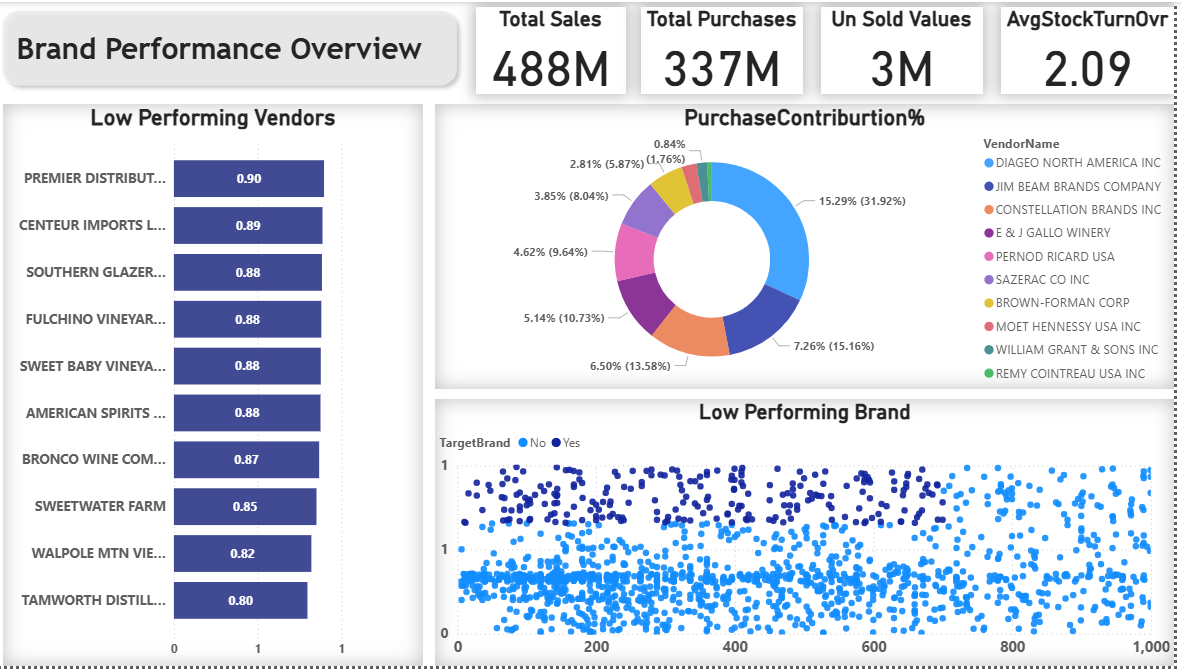

The dashboard page shown, as its layout file describes it:
{"tool":"powerbi","page":{"name":"Brand Performance","canvas":[1280,720],"ordinal":1},"visuals":[{"type":"shape","box":[0,0,510.7,99.2],"z":0},{"type":"textbox","box":[19.5,26,470.1,52],"z":1000},{"type":"card","title":"Total Sales","fields":{"Values":["Sum(VendorPerformance.TotalSalesDollars)"]},"box":[522.1,4.9,162.7,94.3],"z":2000},{"type":"card","title":"Total Purchases","fields":{"Values":["Sum(VendorPerformance.TotalPurchasesDollars)"]},"box":[701,4.9,175.7,94.3],"z":3000},{"type":"card","title":"AvgStockTurnOvr","fields":{"Values":["LowTurnoverVendor.AvgStockTurnOvr"]},"box":[1091.4,4.9,188.7,94.3],"z":4000},{"type":"card","title":"Un Sold Values","fields":{"Values":["Sum(LowTurnoverVendor.UnsoldValues)"]},"box":[896.2,4.9,175.7,94.3],"z":5000},{"type":"clusteredBarChart","title":"Low Performing Vendors","fields":{"Category":["Dim Table.VendorName"],"Y":["LowTurnoverVendor.AvgStockTurnOvr"]},"box":[9.8,110.6,455.4,610],"z":6000},{"type":"scatterChart","title":"Low Performing Brand","fields":{"Category":["BrandPerformance.Description"],"X":["BrandPerformance.TotalSales"],"Y":["BrandPerformance.AvgProfitMargin"],"Series":["BrandTargetTable.TargetBrand"]},"box":[478.2,431,801.9,289.5],"z":8000},{"type":"donutChart","title":"PurchaseContriburtion%","fields":{"Category":["Dim Table.VendorName"],"Y":["PurchaseContribution.PurchaseContriburtion%"]},"box":[478.2,110.6,801.9,309],"z":9000}]}

Visuals, with their boxes in screenshot pixels (x1, y1, x2, y2), scaled from the page's 1280x720 canvas onto the 1181x669 screenshot:
shape: (left=0, top=0, right=471, bottom=92)
textbox: (left=18, top=24, right=452, bottom=72)
"Total Sales" card: (left=482, top=5, right=632, bottom=92)
"Total Purchases" card: (left=647, top=5, right=809, bottom=92)
"AvgStockTurnOvr" card: (left=1007, top=5, right=1180, bottom=92)
"Un Sold Values" card: (left=827, top=5, right=989, bottom=92)
"Low Performing Vendors" clusteredBarChart: (left=9, top=103, right=429, bottom=668)
"Low Performing Brand" scatterChart: (left=441, top=400, right=1180, bottom=668)
"PurchaseContriburtion%" donutChart: (left=441, top=103, right=1180, bottom=390)
